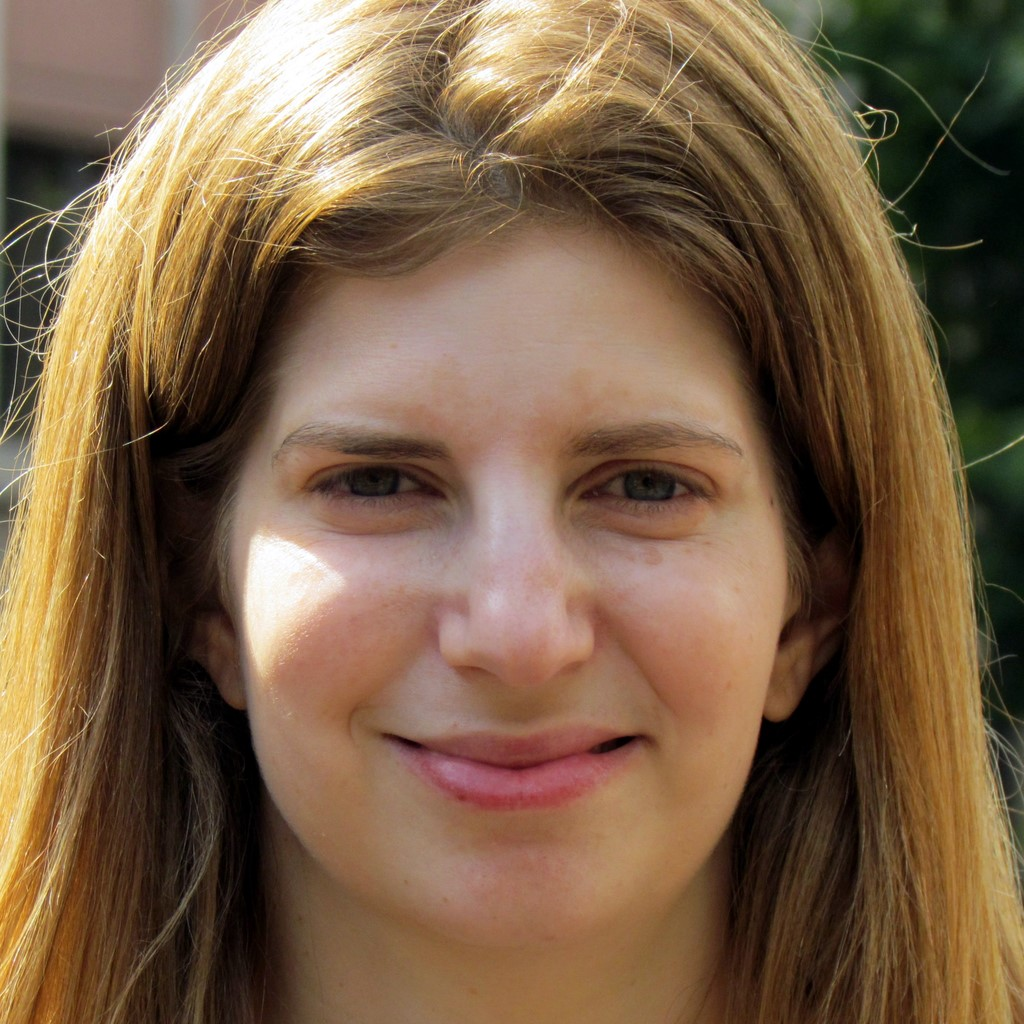sin_mascara: (187, 92, 838, 956)
